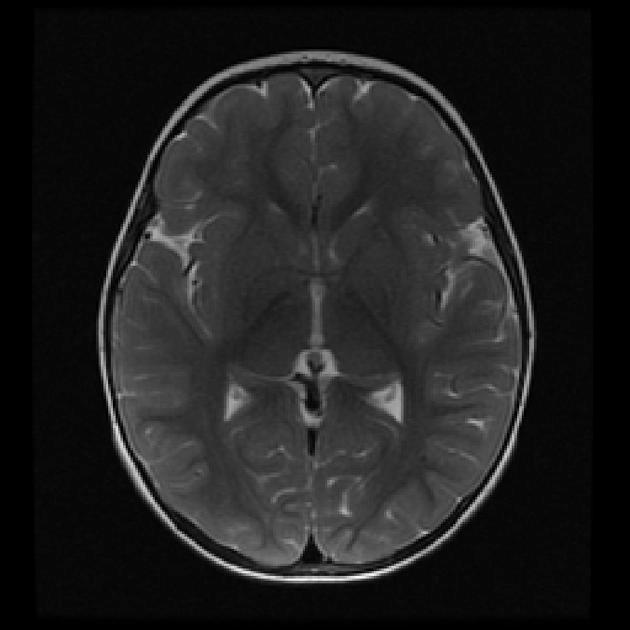Normal_Brain: (68, 6, 569, 630)
